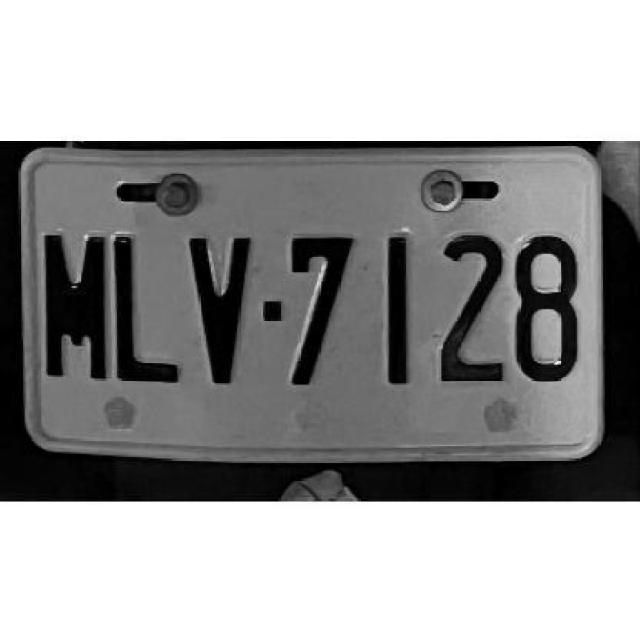-: (263, 297, 283, 323)
1: (388, 225, 415, 386)
2: (437, 228, 509, 384)
7: (288, 229, 360, 391)
8: (511, 232, 580, 383)
L: (112, 232, 185, 378)
M: (43, 235, 111, 377)
V: (188, 232, 257, 383)
